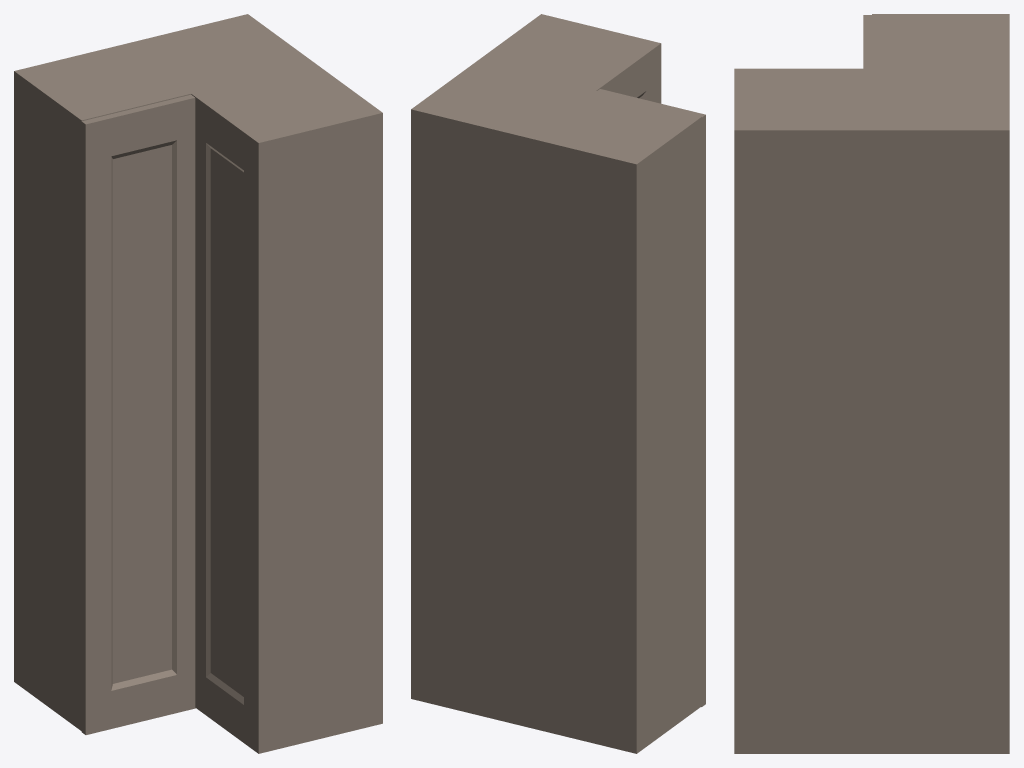
File: Wall-Cabinet-Easy-Reach-12-Deep_std_001_W12in.glb
3 views of the same model, side by side, from view 1: azimuth 30°, elevation 25°; view 2: azimuth 150°, elevation 25°; view 3: azimuth 270°, elevation 25° (orthographic). The views are drawn at different scales.
Visible parts, largest first — view 1: Wall-Cabinet-Easy-Reach-12-Deep.std.001_W12in; view 2: Wall-Cabinet-Easy-Reach-12-Deep.std.001_W12in; view 3: Wall-Cabinet-Easy-Reach-12-Deep.std.001_W12in.
Part boxes in pixels (x1,y1,x2,y2): Wall-Cabinet-Easy-Reach-12-Deep.std.001_W12in: (14,14,382,753); Wall-Cabinet-Easy-Reach-12-Deep.std.001_W12in: (411,14,705,753); Wall-Cabinet-Easy-Reach-12-Deep.std.001_W12in: (734,14,1009,753).
Bounding box in the file's own units: 0.3048 × 0.762 × 0.3048.
